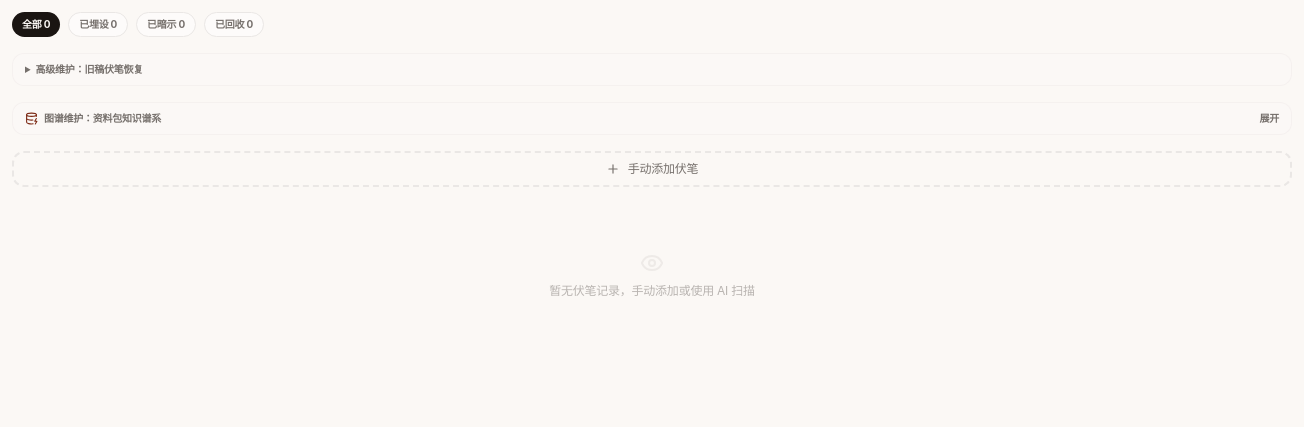
Scenario: ForeshadowingPanel 图谱维护入口（D2） › 展开后出现重跑按钮，展开本身不触发重跑
What coordinates should you click on to do the following:
click the button "图谱维护：资料包知识谱系 展开"
I would click on:
 (103, 118)
Its box is left=13, top=103, right=1291, bottom=134.
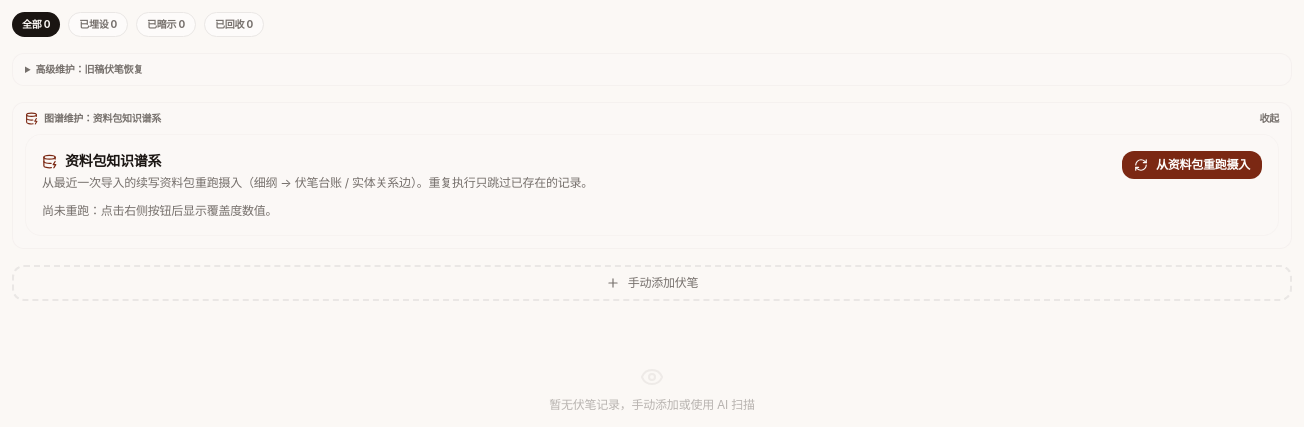
expect the element with test id "knowledge-maintenance-panel" is shown: met, box left=25, top=134, right=1279, bottom=236
expect the button "从资料包重跑摄入" is shown: met, box left=1122, top=151, right=1262, bottom=179
expect the button "图谱维护：资料包知识谱系 收起" is expanded: met, box left=13, top=103, right=1291, bottom=134
